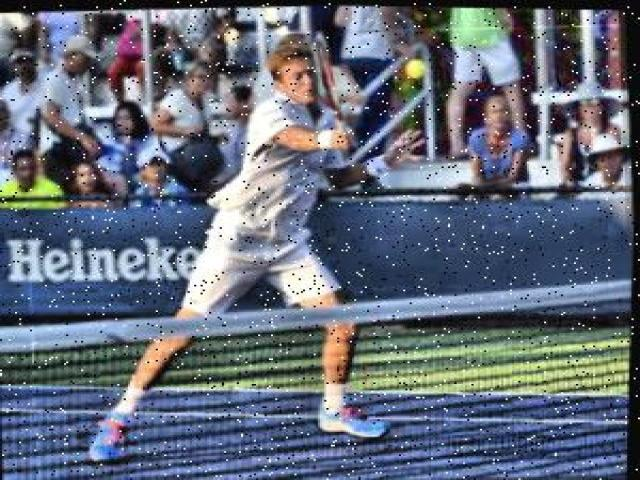tennis-ball: (404, 59, 426, 77)
